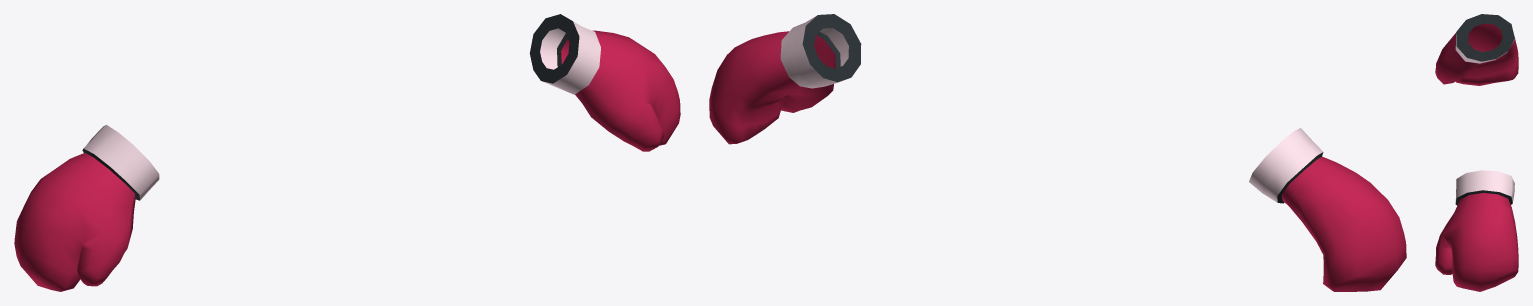
File: Gloves_12.glb
3 views of the same model, side by side, from view 1: azimuth 30°, elevation 25°; view 2: azimuth 150°, elevation 25°; view 3: azimuth 270°, elevation 25° (orthographic). The views are drawn at different scales.
Visible parts, largest first — view 1: Gloves_12; view 2: Gloves_12; view 3: Gloves_12.
Part boxes in pixels (x1,y1,x2,y2): Gloves_12: [14, 14, 680, 291]; Gloves_12: [709, 14, 1406, 291]; Gloves_12: [1435, 14, 1518, 291].
Size of the model in its own units: 0.8453 by 0.1662 by 0.1333.
Materials: 1 (1 with a texture image).
